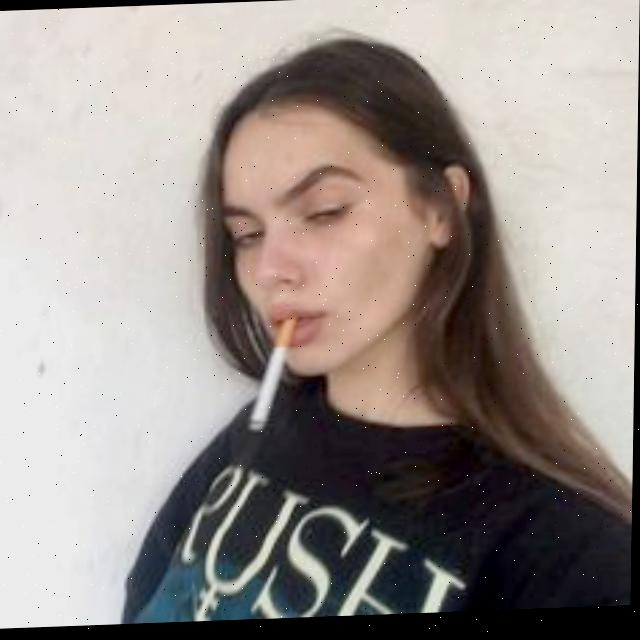cigarette: (249, 319, 300, 435)
